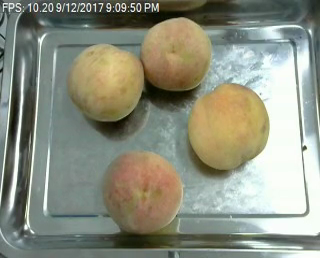Peach: (189, 82, 270, 170), (102, 150, 183, 232), (67, 42, 144, 123), (141, 16, 212, 91)
